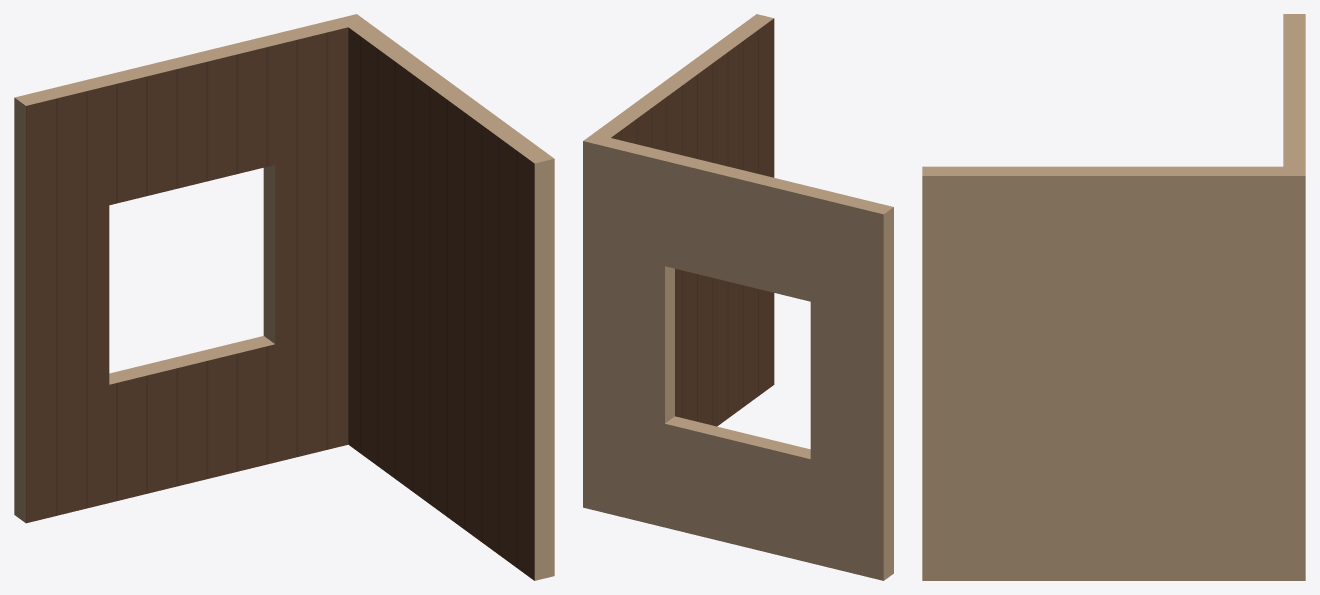
File: Wall3_C9_10.fbx
The picture shows the model from 3 angles, left to right: view 1: azimuth 30°, elevation 25°; view 2: azimuth 150°, elevation 25°; view 3: azimuth 270°, elevation 25°; orthographic projection. The views are drawn at different scales.
Visible parts, largest first — view 1: Wall3_C9_10; view 2: Wall3_C9_10; view 3: Wall3_C9_10.
Boxes of the visible parts, left/top/right/bottom form: Wall3_C9_10: left=14, top=14, right=554, bottom=580; Wall3_C9_10: left=583, top=14, right=893, bottom=580; Wall3_C9_10: left=922, top=14, right=1305, bottom=580.
Bounding box in the file's own units: 258 × 300 × 258.
